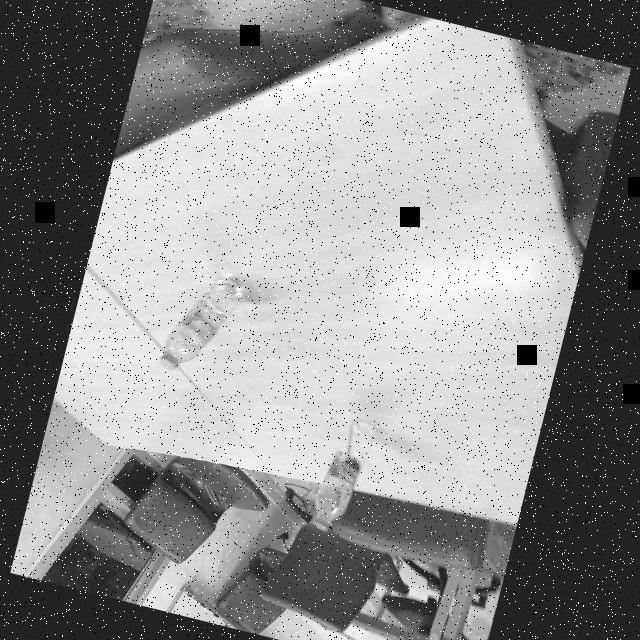plastic_bottle: (156, 264, 252, 386), (306, 411, 381, 537)
plastic_bottle_cap: (157, 351, 180, 372), (312, 513, 332, 532)
straw: (315, 416, 367, 524)
